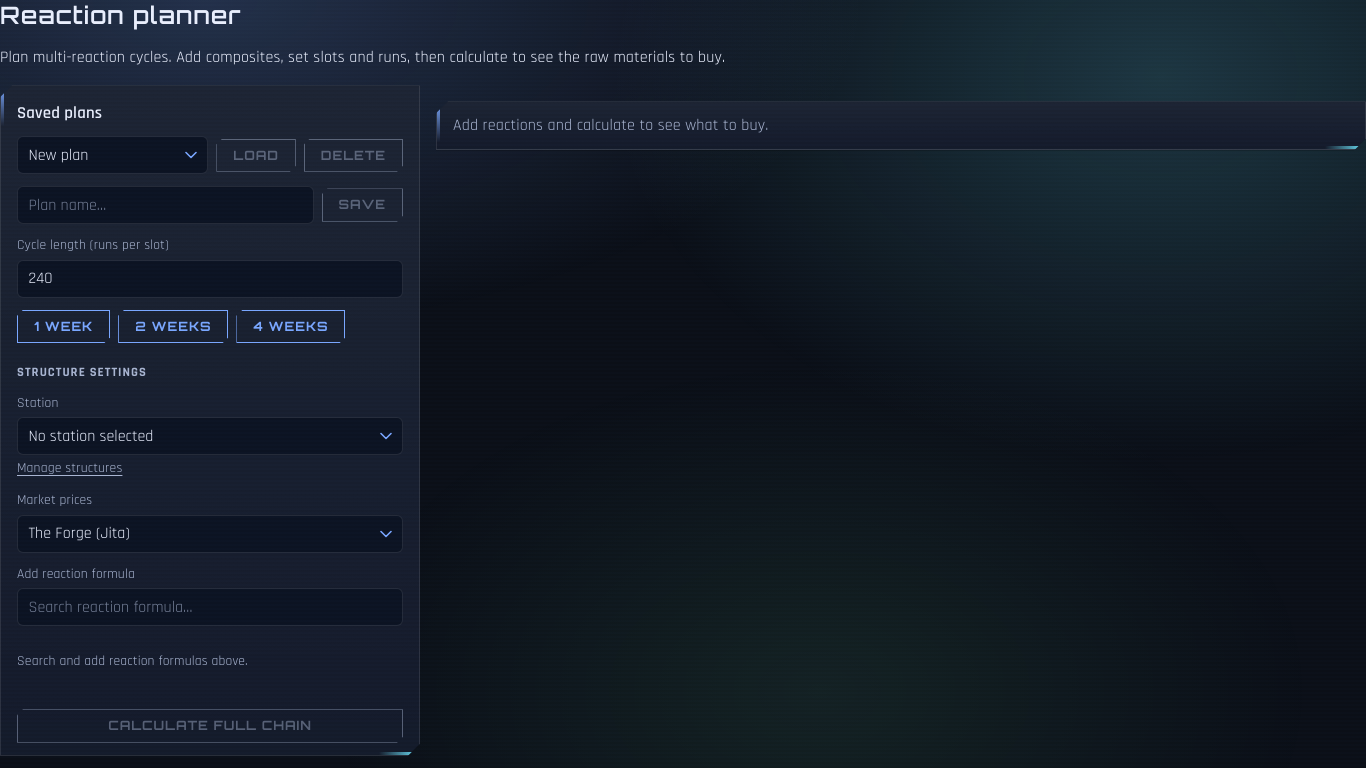
Scenario: ReactionPlanner saved plans › loads a saved plan into the entry list
The width and height of the screenshot is (1366, 768).
Select "Two week cycle" in the dropdown named "Saved plans" at (113, 155), box [17,136,208,174]
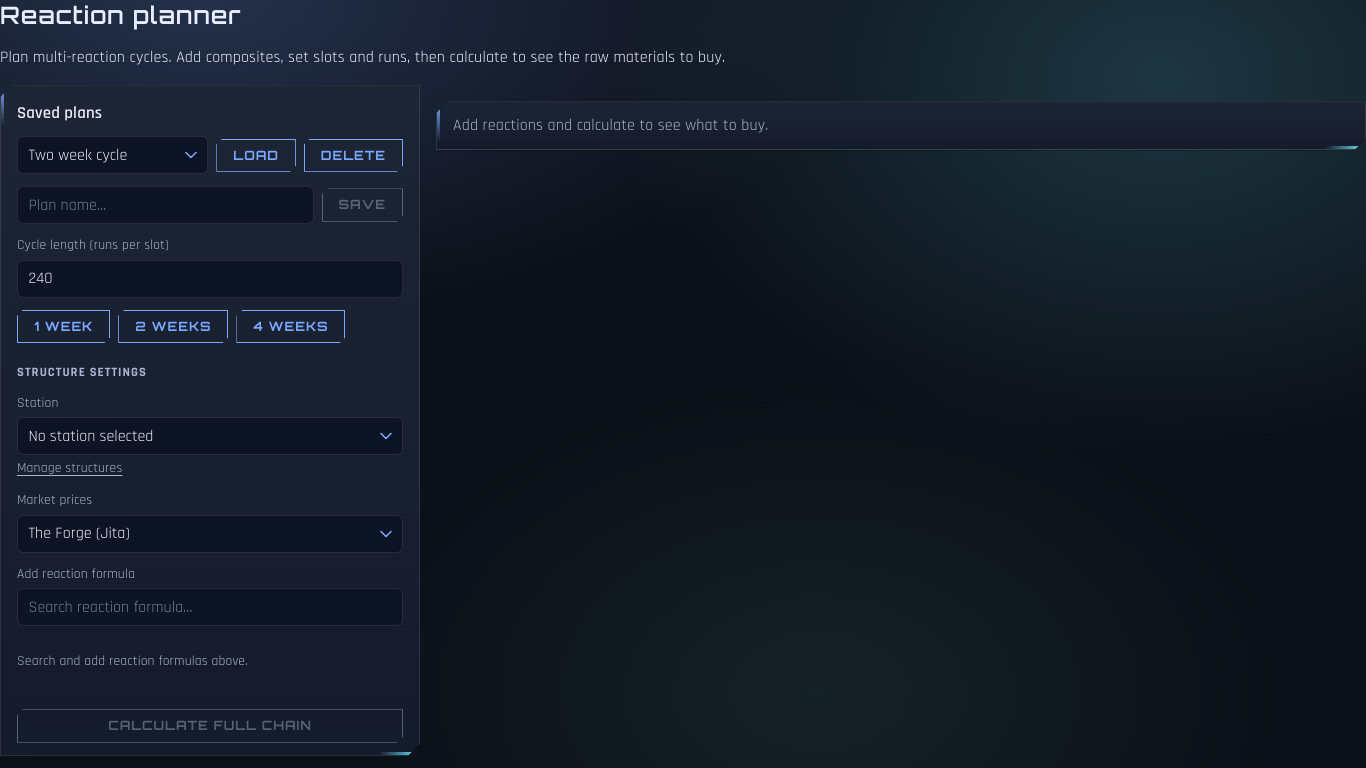
Click the button "Load" at (256, 155), box [216,138,296,172]
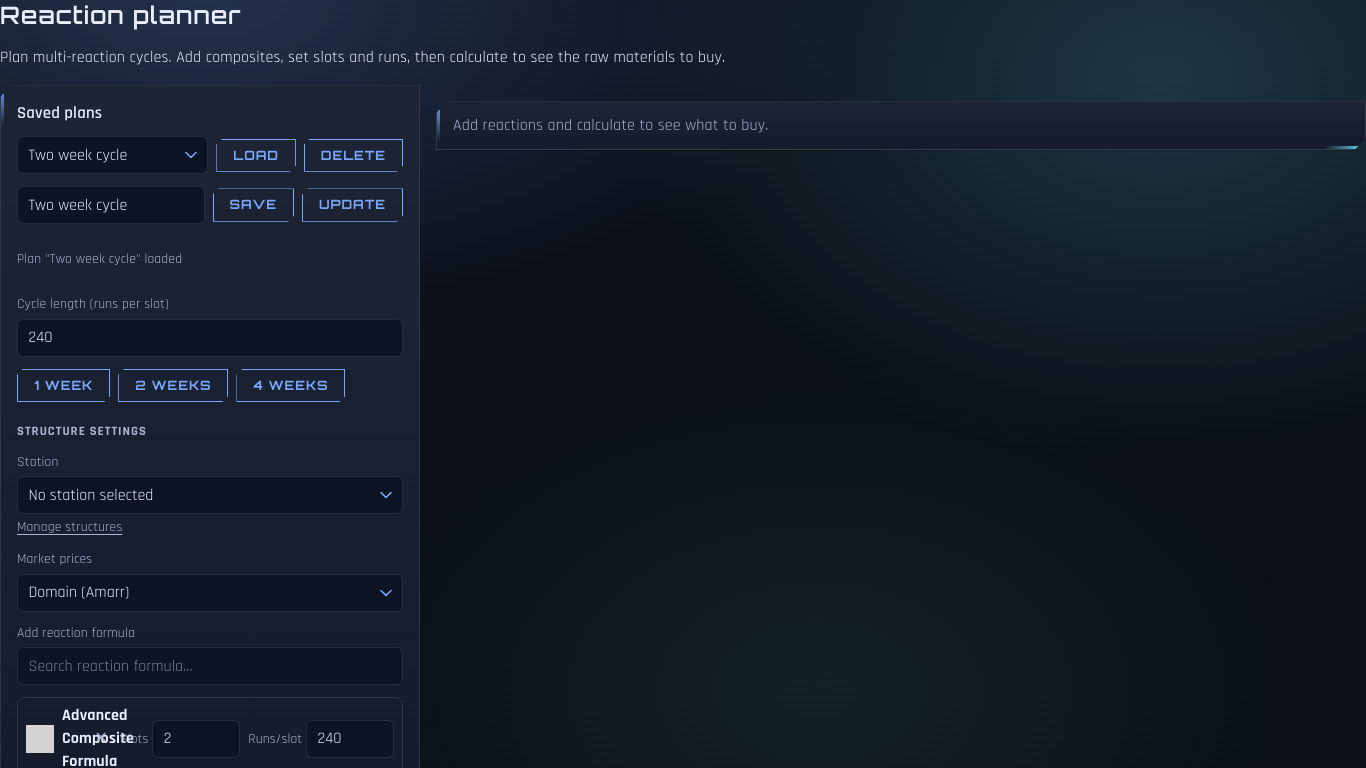
Expected: the number field named "Slots for Advanced Composite Formula" holds "2", [152,720,240,758]
Expected: the field named "Plan name" holds "Two week cycle", [17,186,204,224]
Expected: the message reads "Plan \"Two week cycle\" loaded", [17,250,182,268]
